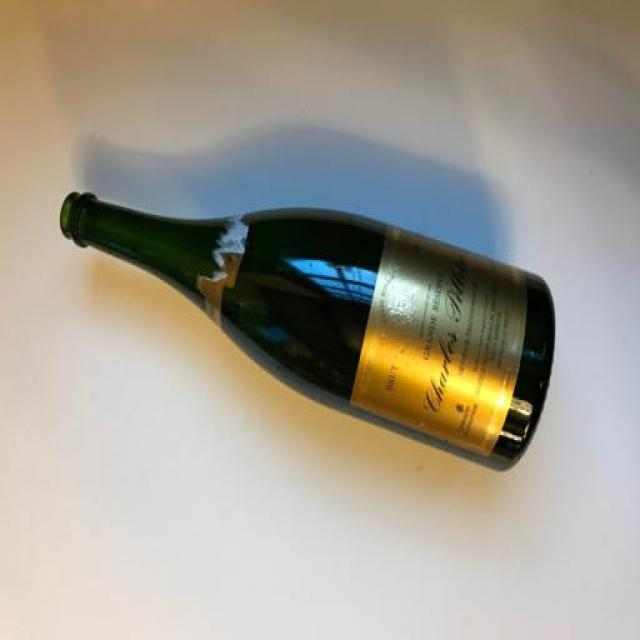glass: (47, 151, 572, 504)
